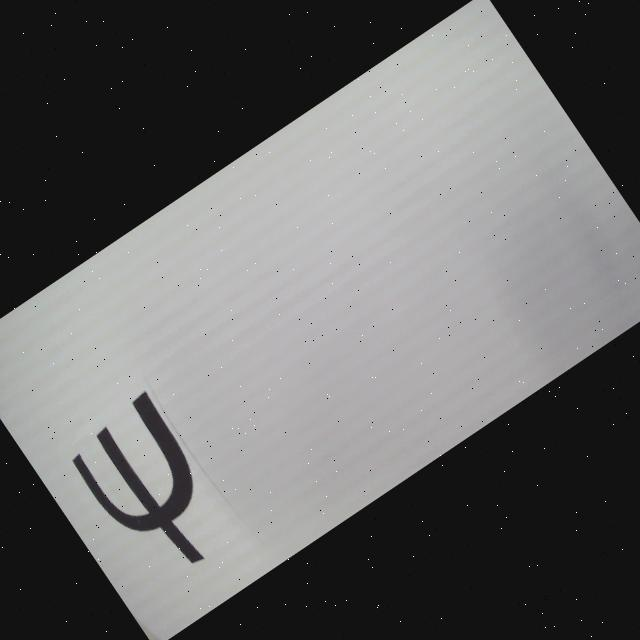PSI: (61, 390, 242, 591)
